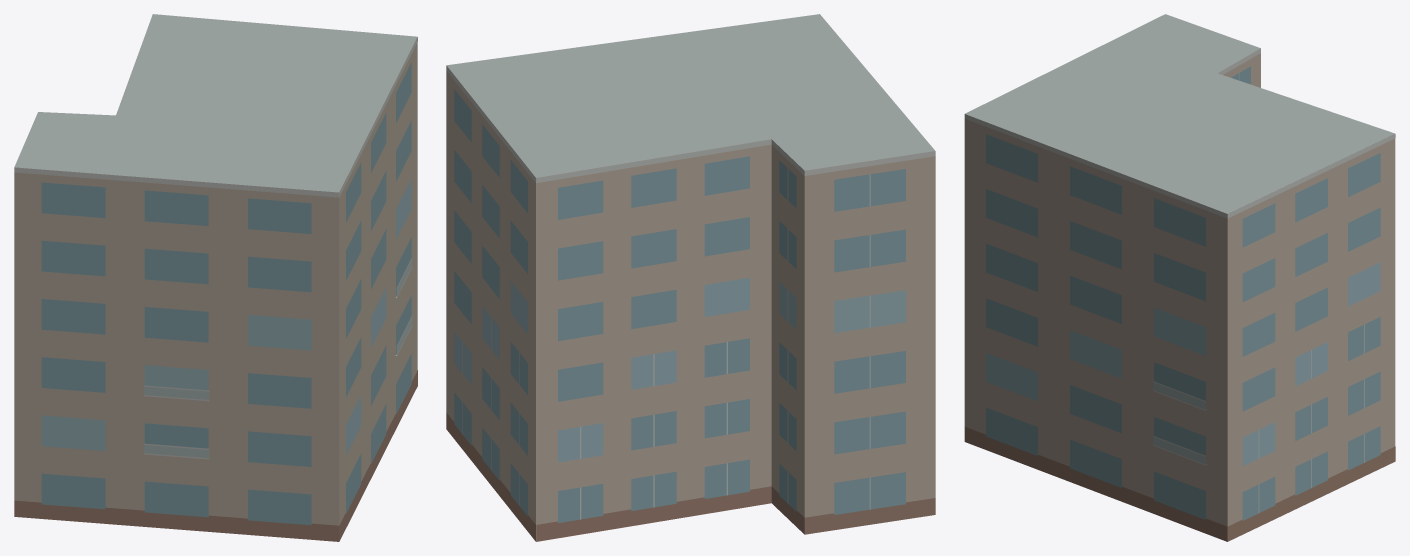
File: survey-upis-32879338.glb
The picture shows the model from 3 angles, left to right: view 1: azimuth 30°, elevation 25°; view 2: azimuth 150°, elevation 25°; view 3: azimuth 270°, elevation 25°; orthographic projection. The views are drawn at different scales.
Visible parts, largest first — view 1: survey-upis-32879338.tmp; view 2: survey-upis-32879338.tmp; view 3: survey-upis-32879338.tmp.
Boxes of the visible parts, x1=… form: survey-upis-32879338.tmp: x1=14, y1=14, x2=417, y2=541; survey-upis-32879338.tmp: x1=446, y1=14, x2=935, y2=541; survey-upis-32879338.tmp: x1=964, y1=14, x2=1395, y2=541.
Bounding box in the file's own units: 22.11 × 16.9 × 20.13.
